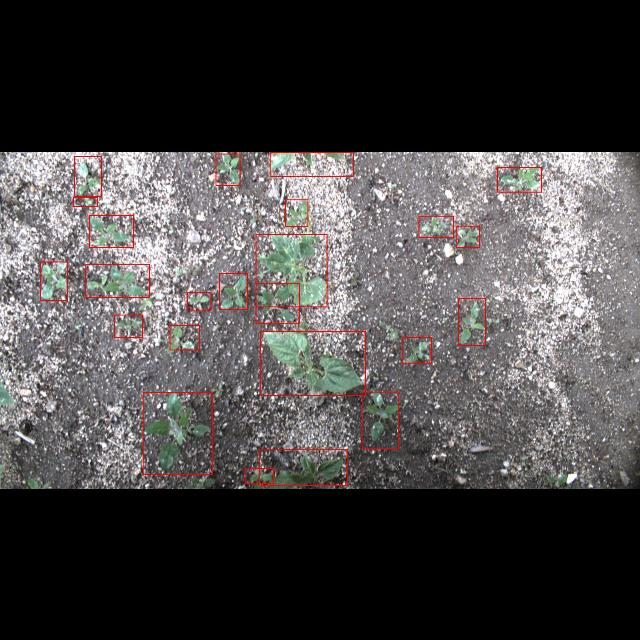crop: (260, 331, 366, 395), (256, 234, 326, 306), (270, 151, 354, 175)
weed: (144, 392, 212, 474), (259, 449, 347, 485), (86, 263, 150, 297), (362, 392, 398, 448), (256, 283, 298, 323), (90, 214, 134, 246), (458, 297, 486, 345), (497, 166, 541, 192), (75, 155, 102, 195), (41, 262, 68, 300), (219, 273, 247, 309), (170, 324, 200, 350), (402, 337, 432, 363), (216, 153, 240, 185), (418, 216, 454, 237), (114, 314, 142, 338), (286, 198, 308, 226), (456, 226, 479, 247), (244, 468, 274, 484), (187, 291, 211, 309), (74, 197, 98, 206)
